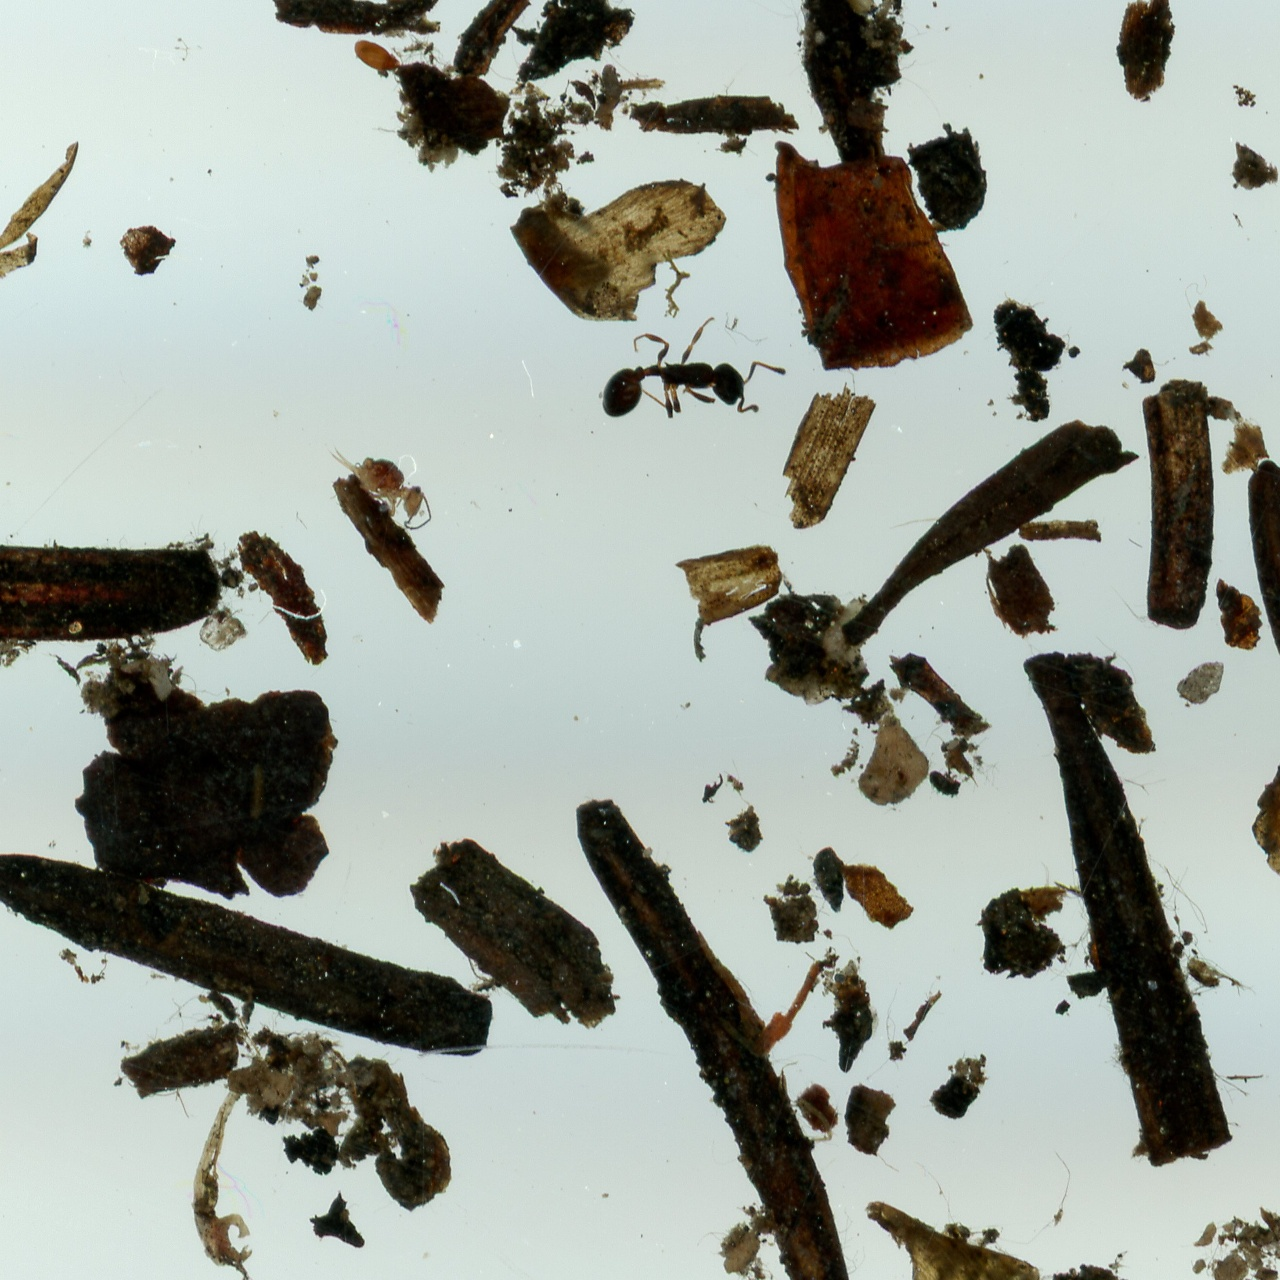arthropod: (600, 316, 788, 421), (321, 422, 448, 544), (822, 956, 878, 1074), (1214, 573, 1266, 655)
